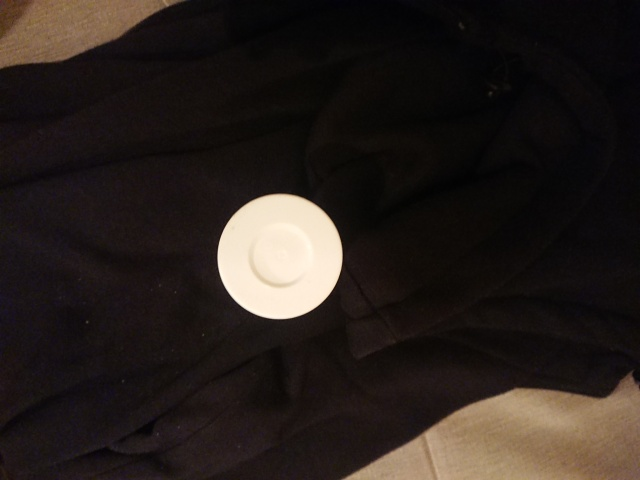Solana Pag Fine Sea Salt 250g: (214, 191, 345, 321)
